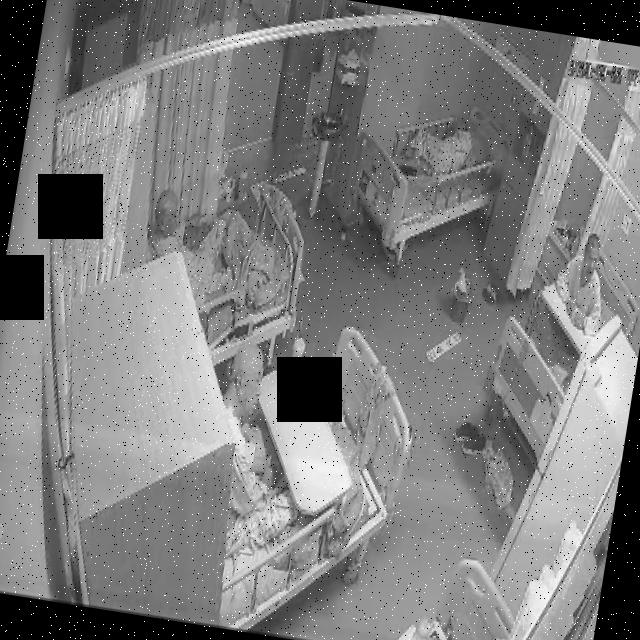bed: (204, 314, 425, 640), (475, 235, 640, 477), (162, 174, 314, 382), (344, 89, 508, 264)
lie: (396, 113, 478, 195)
patient: (198, 334, 326, 566), (136, 176, 243, 308), (547, 228, 616, 338), (396, 112, 479, 194)
sit: (195, 332, 325, 568), (136, 176, 242, 306), (548, 228, 614, 336)
